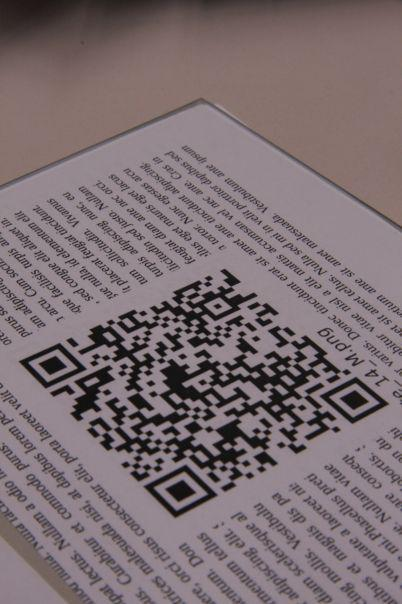Finder pattern: (141, 463, 219, 518), (19, 342, 86, 390), (323, 379, 390, 425)
